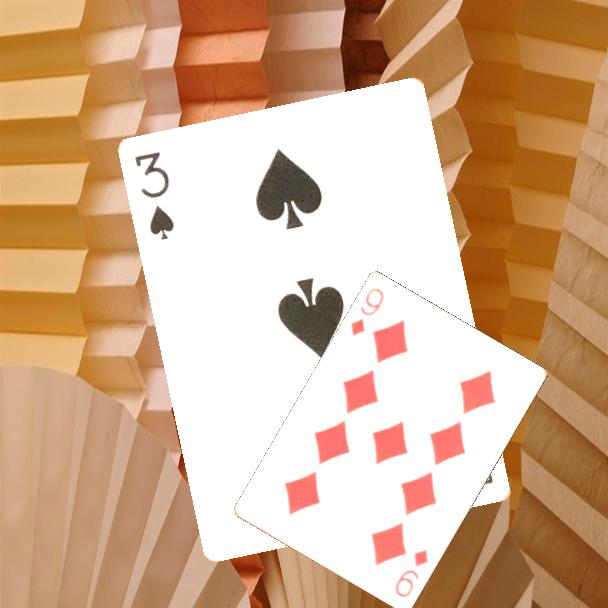d09: (347, 285, 388, 339), (391, 546, 431, 601)
s03: (132, 148, 178, 243)
